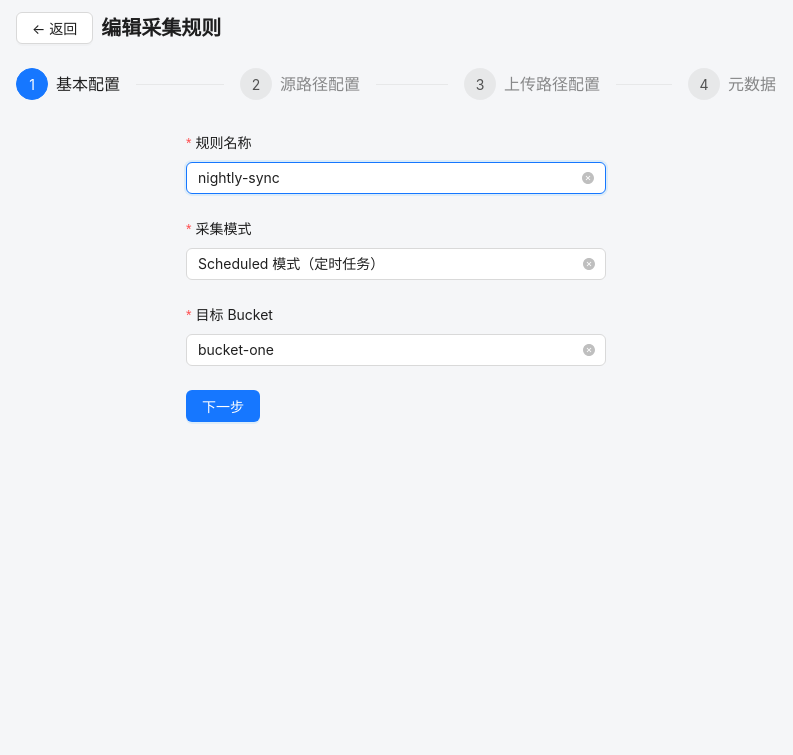
it: AgentRuleFormPage edit mode › disables the tail append-mode option and states the reason
Check: the heading "编辑采集规则" is shown, box 101,14 -> 221,42
Click the button "下一步": [223, 406] box 186,390 -> 260,422
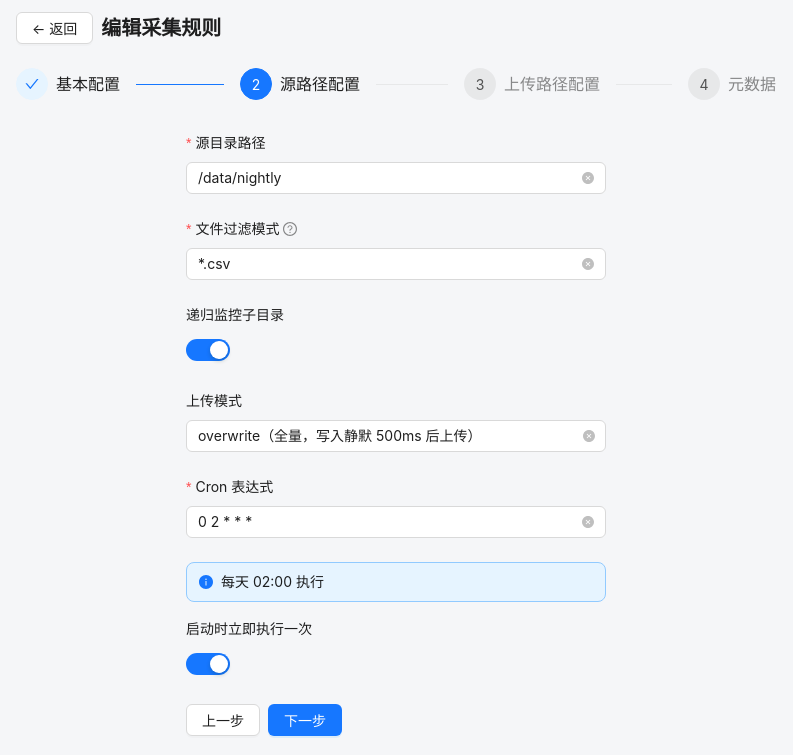
Check: the search field labelled "上传模式" is shown, box 186,390 -> 256,412
Check: the element named "上传模式" is shown
Press the mouse on the element showing "overwrite（全量，写入静默 500ms 后上传）": [396, 436] box 186,420 -> 606,452
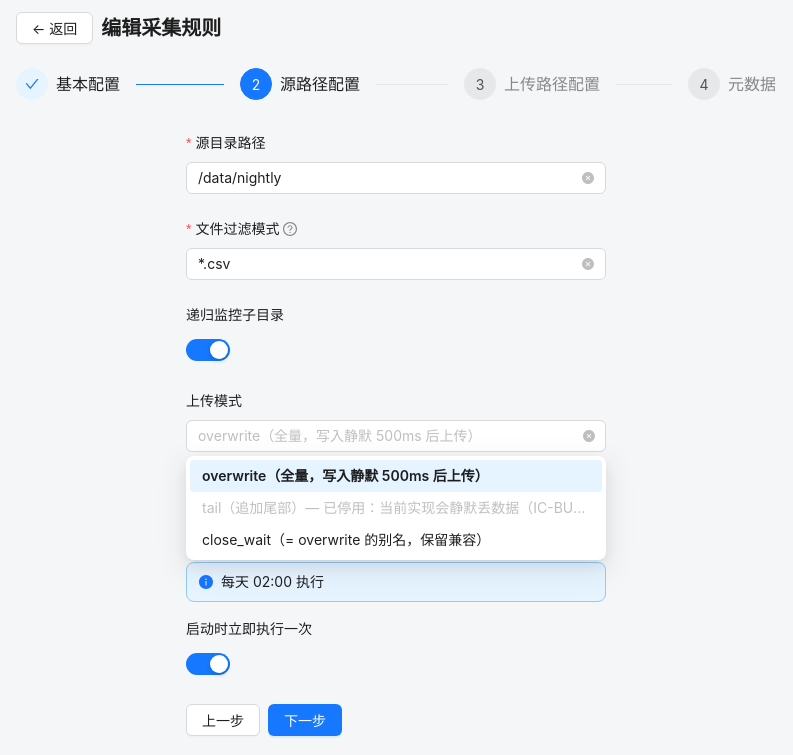
Check: the element showing "tail（追加尾部）— 已停用：当前实现会静默丢数据（IC-BUG-46），正确实现见 IC-15" is shown, box 202,499 -> 602,516
